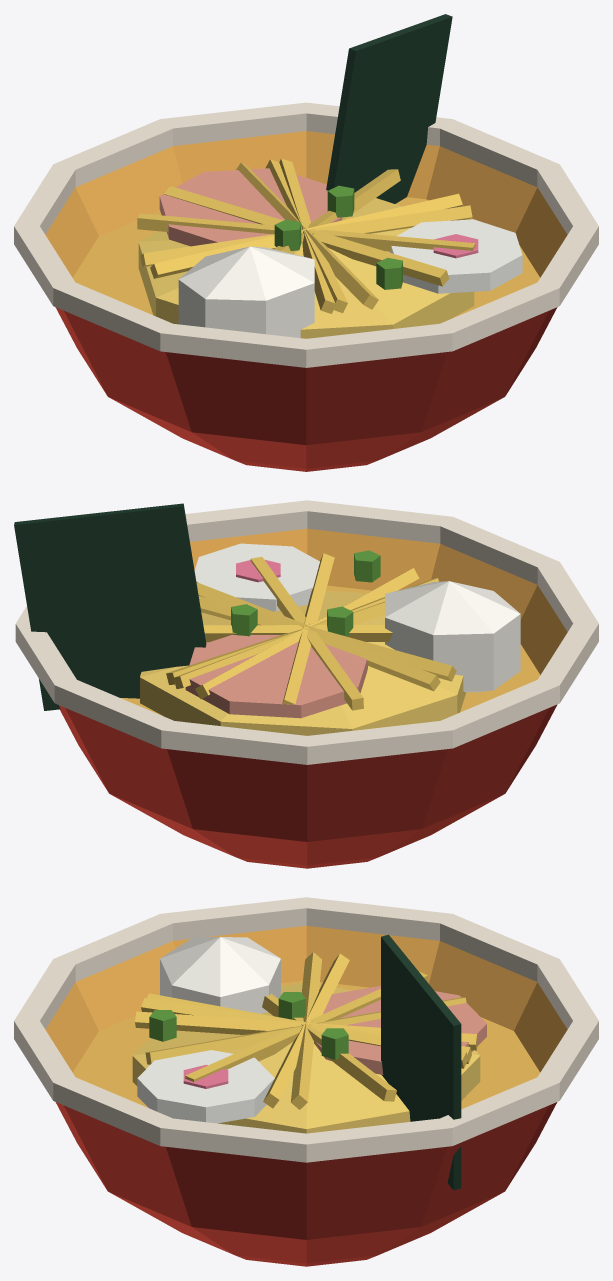
File: Food_Ramen.obj
3 views of the same model, one above another, from view 1: azimuth 30°, elevation 25°; view 2: azimuth 150°, elevation 25°; view 3: azimuth 270°, elevation 25° (orthographic).
Size of the model in its own units: 2.04 by 1.24 by 2.04.
